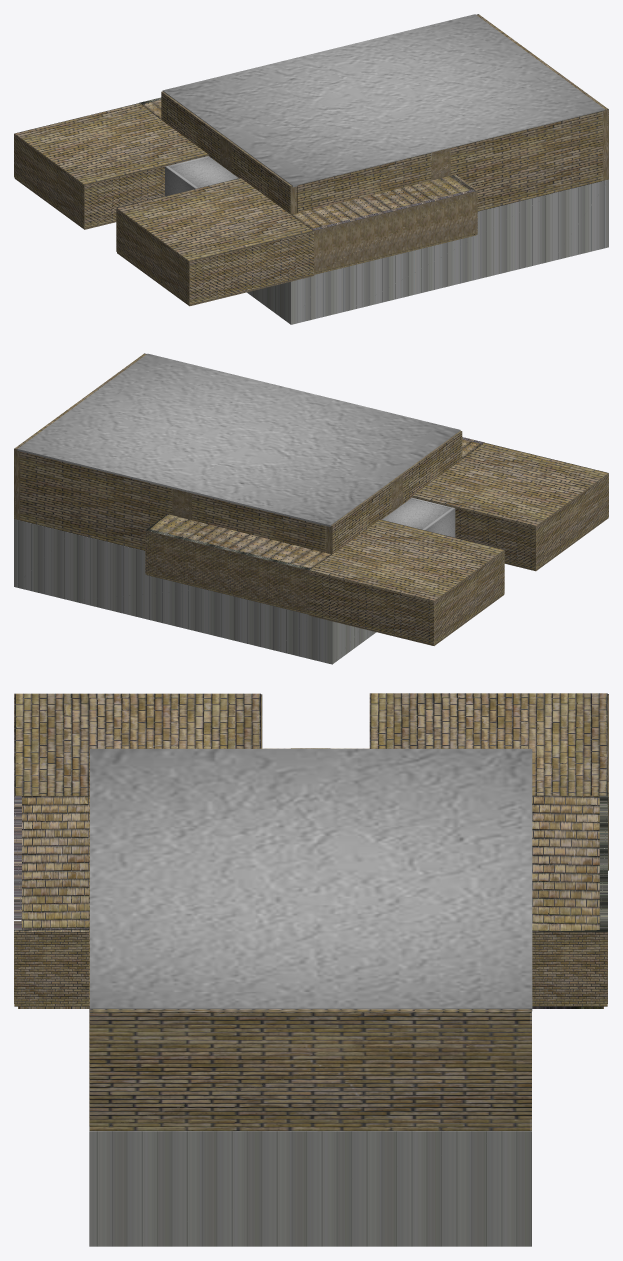
Rendered from poolmap.fbx.
3 views of the same model, one above another, from view 1: azimuth 30°, elevation 25°; view 2: azimuth 150°, elevation 25°; view 3: azimuth 270°, elevation 25° (orthographic). The views are drawn at different scales.
Parts seen in each view (by area): view 1: poolroom_ceiling, poolroom_walls, pool_floor, room2, room1, hallway2, janitor_closet; view 2: poolroom_ceiling, poolroom_walls, pool_floor, room1, room2, hallway1, janitor_closet; view 3: poolroom_ceiling, poolroom_walls, pool_floor, room2, room1, hallway1, hallway2.
Part boxes in pixels (x1=…): poolroom_ceiling: x1=162, y1=14, x2=605, y2=187; poolroom_walls: x1=161, y1=14, x2=608, y2=214; pool_floor: x1=247, y1=179, x2=608, y2=324; room2: x1=116, y1=178, x2=314, y2=306; room1: x1=14, y1=103, x2=208, y2=229; hallway2: x1=291, y1=174, x2=477, y2=274; janitor_closet: x1=165, y1=156, x2=238, y2=196; poolroom_ceiling: x1=17, y1=353, x2=460, y2=526; poolroom_walls: x1=14, y1=353, x2=462, y2=554; pool_floor: x1=14, y1=519, x2=376, y2=664; room1: x1=309, y1=519, x2=504, y2=645; room2: x1=411, y1=443, x2=608, y2=571; hallway1: x1=145, y1=514, x2=331, y2=614; janitor_closet: x1=382, y1=497, x2=455, y2=537; poolroom_ceiling: x1=90, y1=749, x2=532, y2=1010; poolroom_walls: x1=89, y1=748, x2=531, y2=1131; pool_floor: x1=89, y1=1126, x2=531, y2=1246; room2: x1=14, y1=693, x2=262, y2=795; room1: x1=369, y1=693, x2=608, y2=870; hallway1: x1=532, y1=795, x2=607, y2=1008; hallway2: x1=14, y1=795, x2=89, y2=1008.
Bounding box in the file's own units: 968 × 290 × 663.
Materials: 5 (5 with a texture image).
